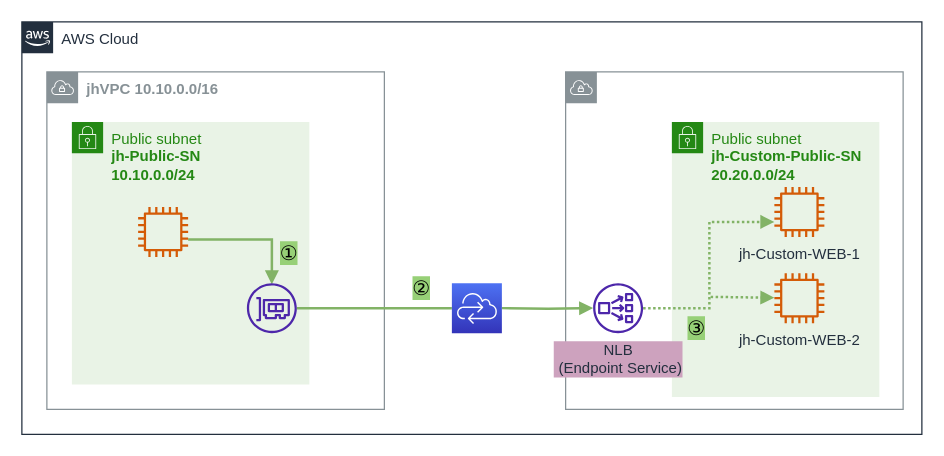
Image size: 944x456. Some labels were removed from this diagram. The box of each missing label's shape, as (x1, y1, x2, y2) in pixels:
Interface Endpoint: (246, 282, 296, 332)
jh-EC2: (138, 206, 188, 256)
jhCustomVPC 20.20.0.0/16: (564, 71, 903, 409)
Private Link: (451, 282, 502, 333)
